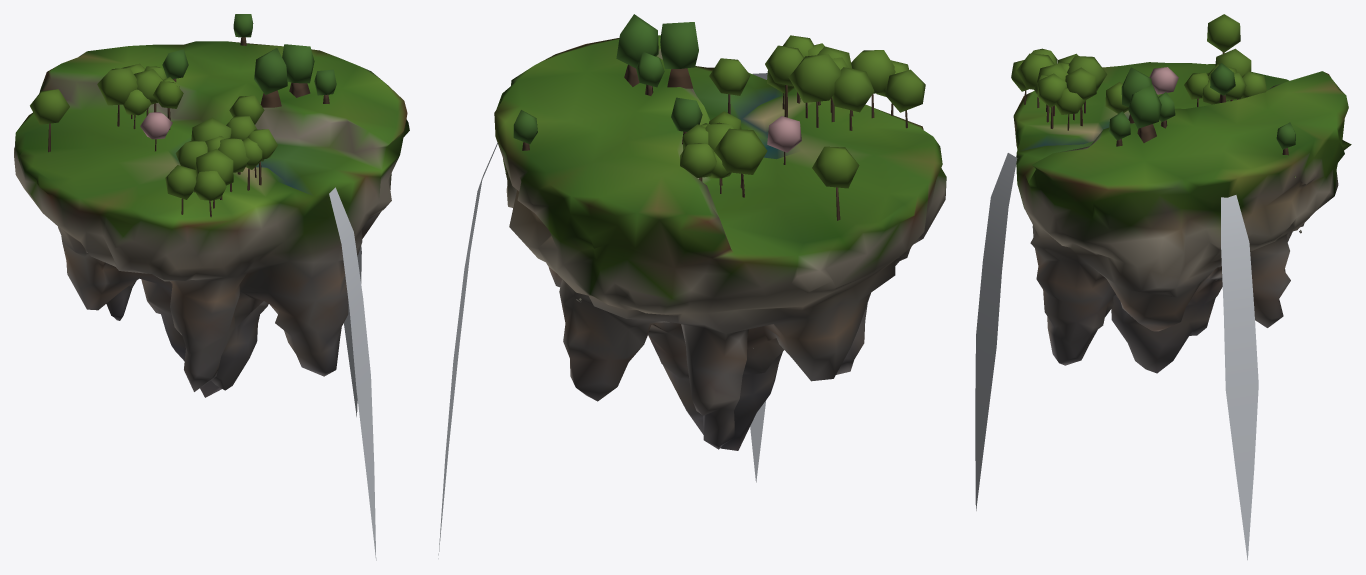
File: island-terrace-lod2.glb
3 renders of one model, left to right at view 1: azimuth 30°, elevation 25°; view 2: azimuth 150°, elevation 25°; view 3: azimuth 270°, elevation 25°, orthographic. The views are drawn at different scales.
Parts seen in each view (by area): view 1: Silhouette; view 2: Silhouette; view 3: Silhouette.
Part boxes in pixels (<box>): Silhouette: <box>14,14,409,560</box>; Silhouette: <box>438,14,946,558</box>; Silhouette: <box>975,14,1351,560</box>.
Bounding box in the file's own units: 77.67 × 93.99 × 74.37.
